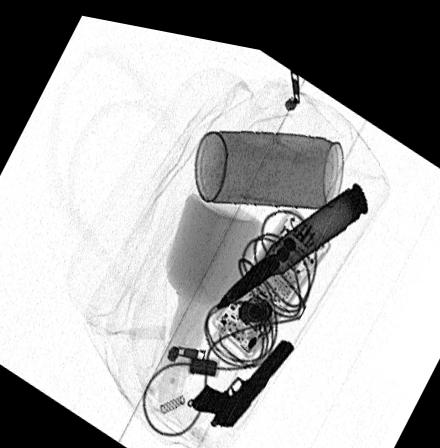Bullet: (214, 167, 367, 303)
Gun: (190, 327, 294, 419)
